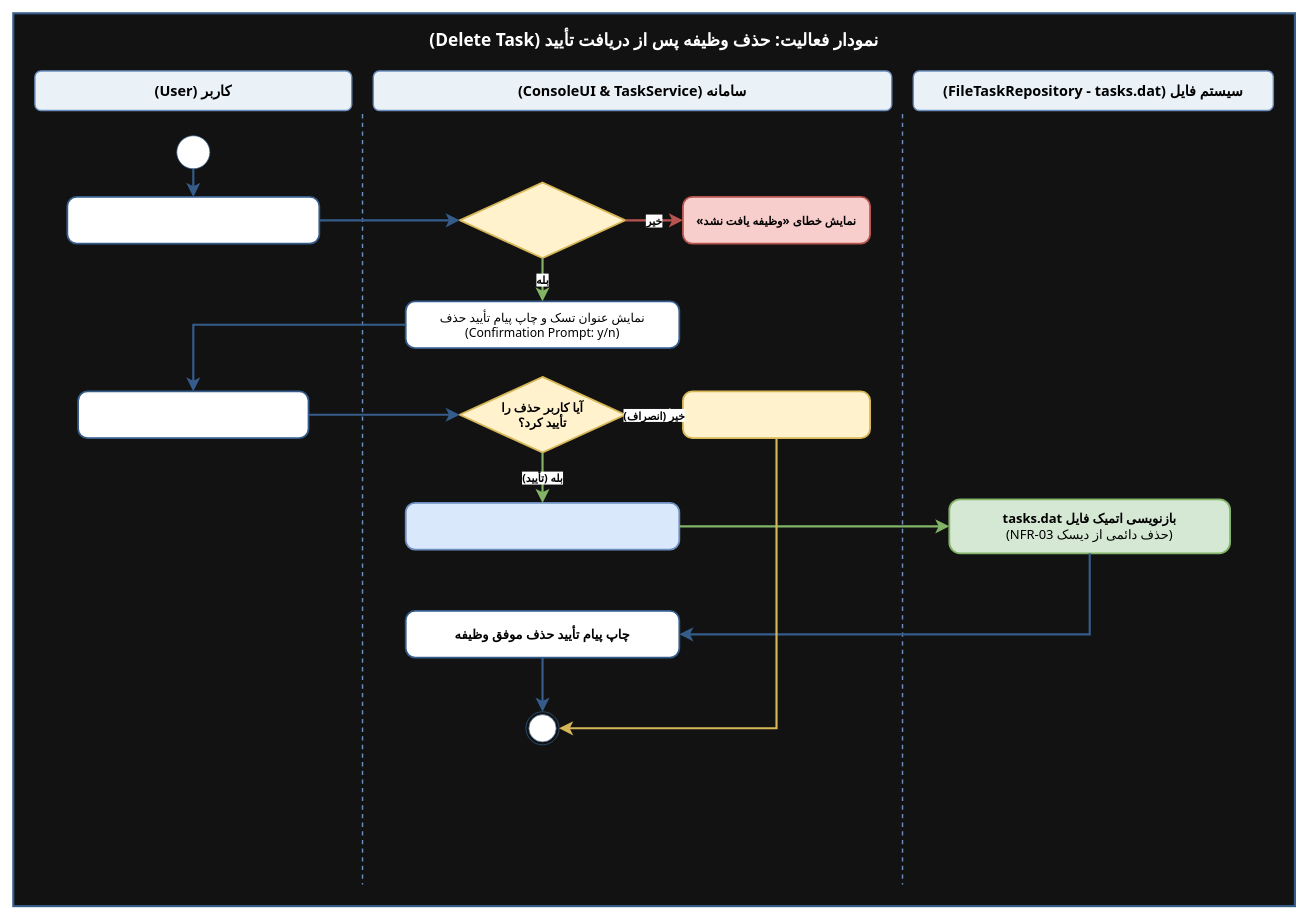
The diagram is 1308 pixels wide and 919 high, and some of its shapes have lost their labels. The centre of each missing label's shape, as x and y in pixels:
"آیا تسک مورد نظر یافت شد؟" goes at pixel 542 220.
"انتخاب «5) Delete task» و وارد کردن شناسه تسک" goes at pixel 193 220.
"حذف شیء Task از حافظه" goes at pixel 542 526.
"لغو عملیات حذف (بدون تغییر داده)" goes at pixel 776 414.
"وارد کردن پاسخ تأیید یا انصراف" goes at pixel 193 414.
